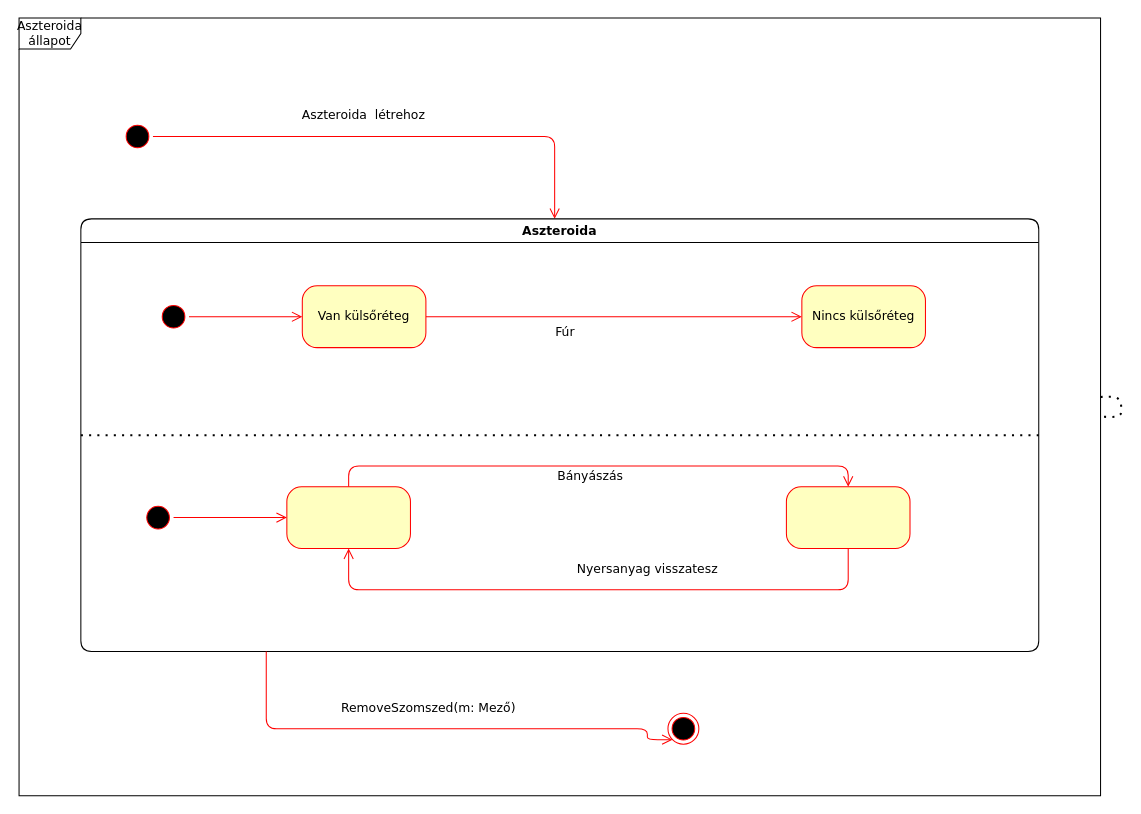
This 1141x814 diagram has some shape labels left out. Here are the shapes that lost their labels. From the top down, the centre of each, then its label:
the point at 348,517: Magban nyersanyag
the point at 847,517: Mag üres
